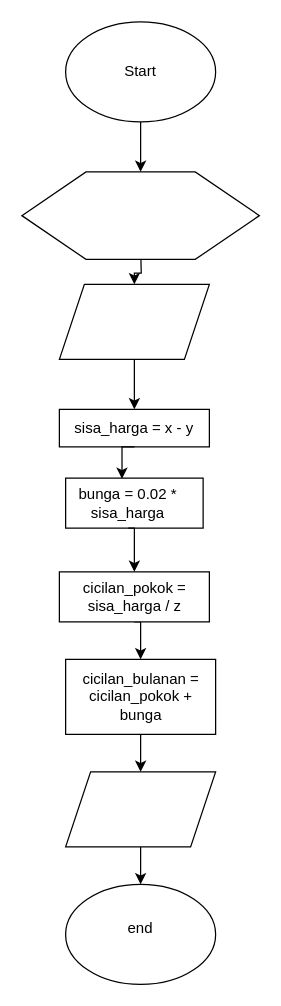
Some shapes in this 281 by 1006 pixel diagram are drawn without their labels. The shapes that lost their labels are listed below. From the top down, each one's centre as x and y in pixels, then its label:
the point at 140,215: double x, y, z, sisa_harga, bunga, cicilan_pokok, cicilan_bulanan
the point at 133,321: input x, y, z
the point at 140,809: output cicilan_bulanan
